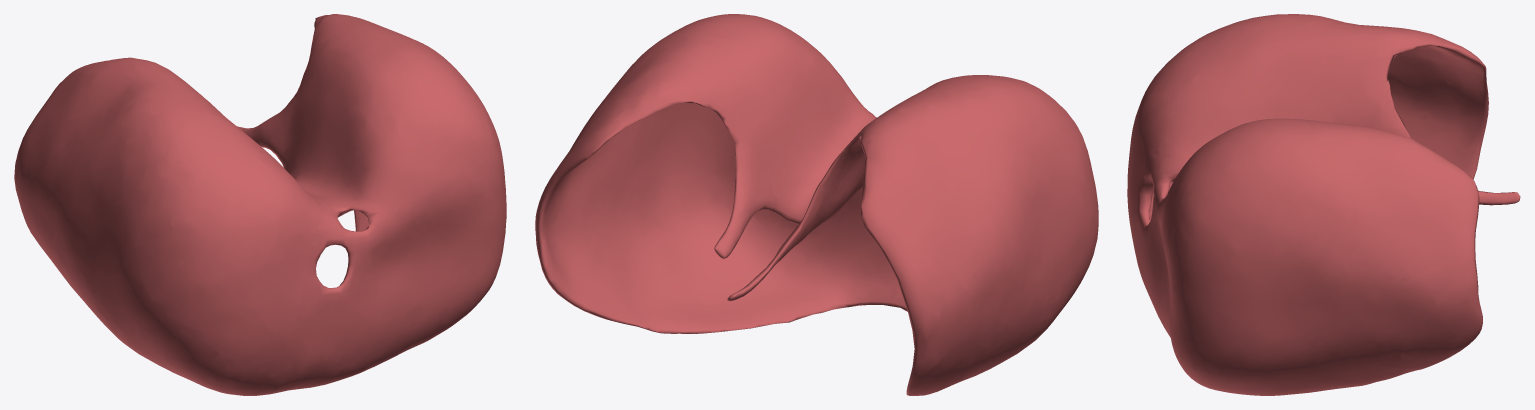
3 renders of one model, left to right at view 1: azimuth 30°, elevation 25°; view 2: azimuth 150°, elevation 25°; view 3: azimuth 270°, elevation 25°, orthographic. The views are drawn at different scales.
Parts seen in each view (by area): view 1: 膈; view 2: 膈; view 3: 膈.
Part boxes in pixels (<box>): 膈: <box>14,14,506,395</box>; 膈: <box>535,14,1098,395</box>; 膈: <box>1127,14,1520,395</box>.
Bounding box in the file's own units: 0.3696 × 0.2475 × 0.324.
